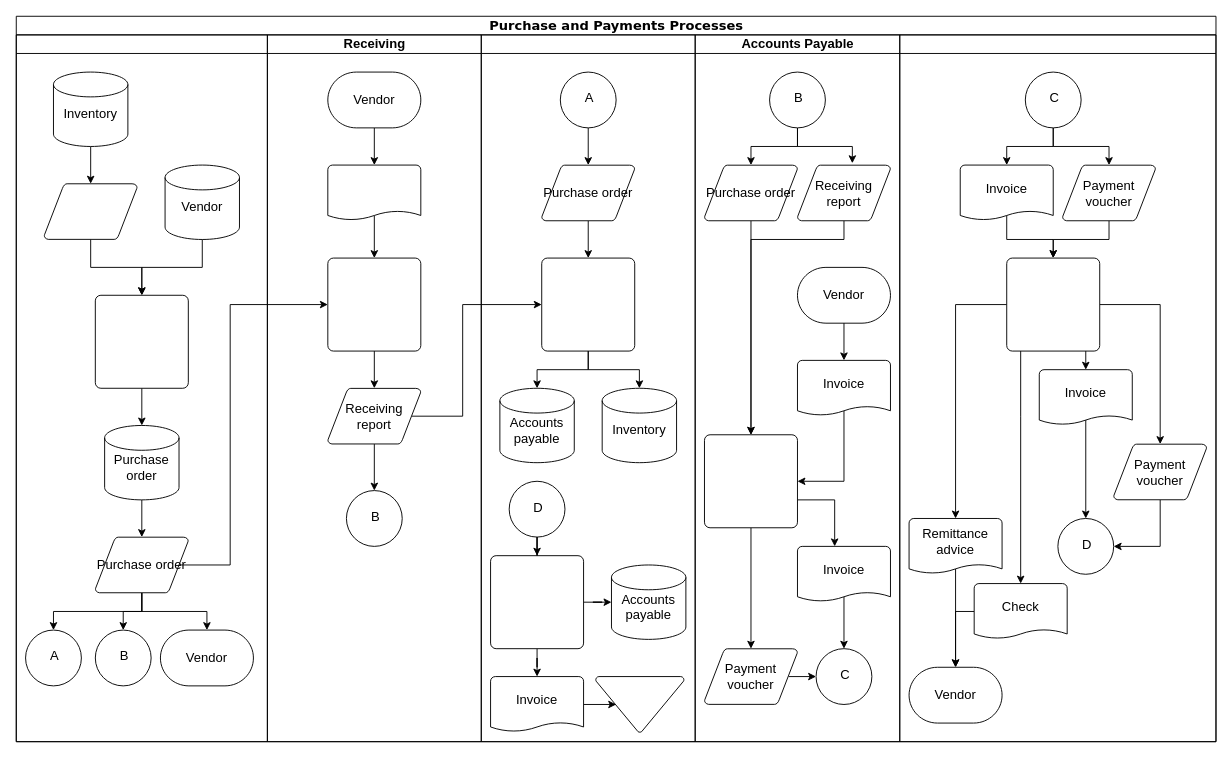
Some shapes in this 1232 by 758 pixel diagram are drawn without their labels. The box of each missing label's shape, as (x1, y1, x2, y2) in pixels:
Accounting: (480, 34, 695, 742)
Compare documents and approve payment: (704, 434, 797, 528)
Compare reports and update A/P and inventory: (541, 257, 635, 351)
File: (595, 676, 684, 732)
Generate purchase order and select vendor: (94, 294, 188, 388)
Inspect goods and prepare receiving report: (327, 257, 421, 351)
Packing slip: (327, 164, 421, 221)
Prepare payment and remittance advice: (1006, 257, 1100, 351)
Purchase requisition: (43, 183, 137, 239)
Purchasing: (15, 34, 267, 742)
Treasurer: (899, 34, 1216, 742)
Update A/P to reflect payment: (490, 555, 584, 649)
